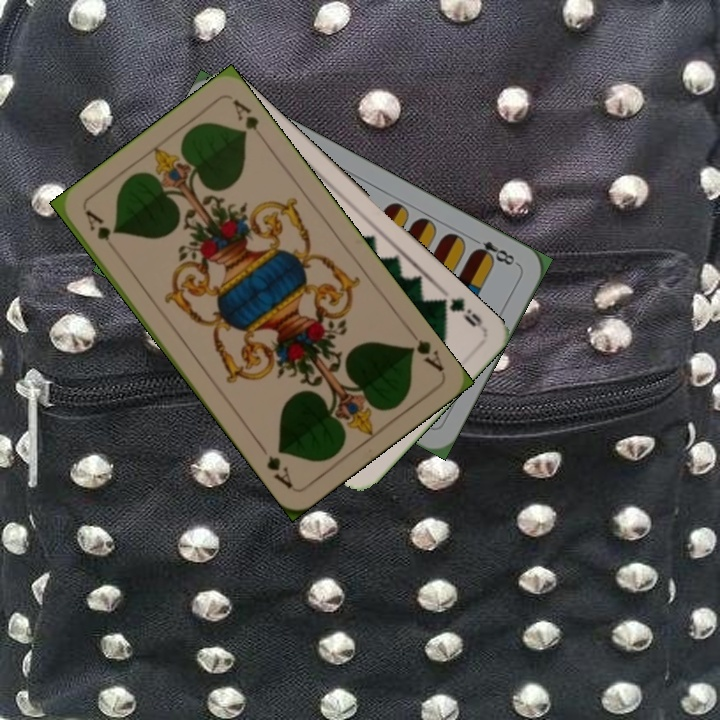E8: (467, 233, 521, 268)
G9: (432, 294, 485, 332)
GA: (81, 206, 119, 257), (403, 335, 447, 375)
